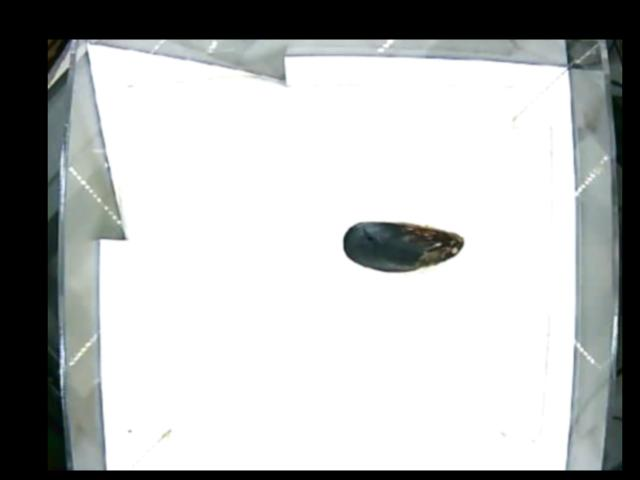Shell: (343, 220, 465, 272)
